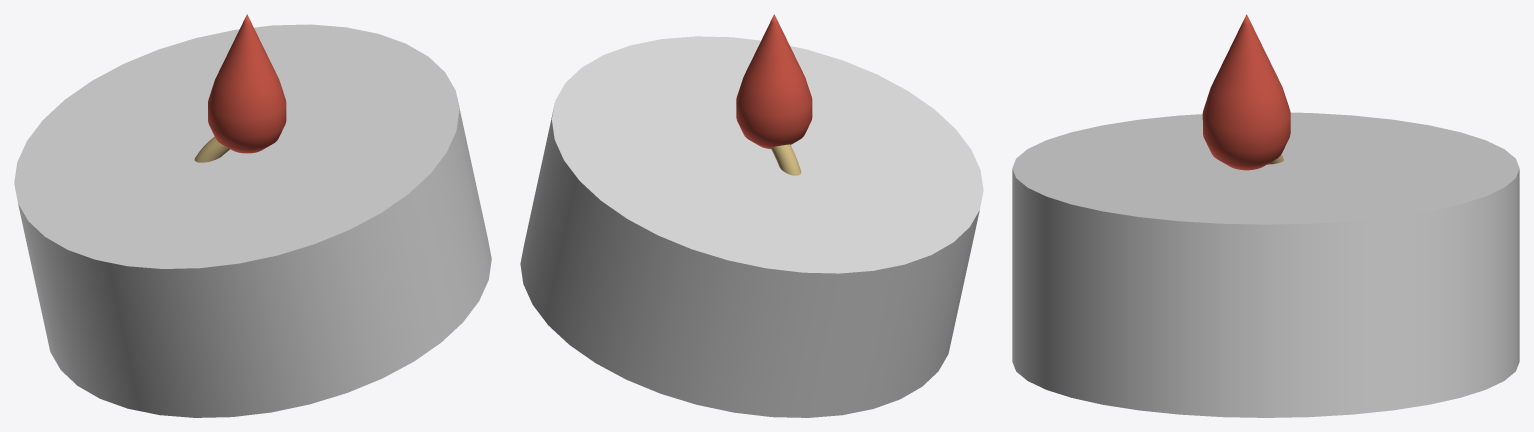
File: Candle.fbx
The picture shows the model from 3 angles, left to right: view 1: azimuth 30°, elevation 25°; view 2: azimuth 150°, elevation 25°; view 3: azimuth 270°, elevation 25°; orthographic projection. The views are drawn at different scales.
Parts seen in each view (by area): view 1: Candle; view 2: Candle; view 3: Candle.
Boxes of the visible parts, bbox=[...] form: Candle: bbox=[14, 14, 491, 417]; Candle: bbox=[520, 14, 983, 417]; Candle: bbox=[1012, 14, 1519, 417].
Size of the model in its own units: 106 by 82.53 by 100.
